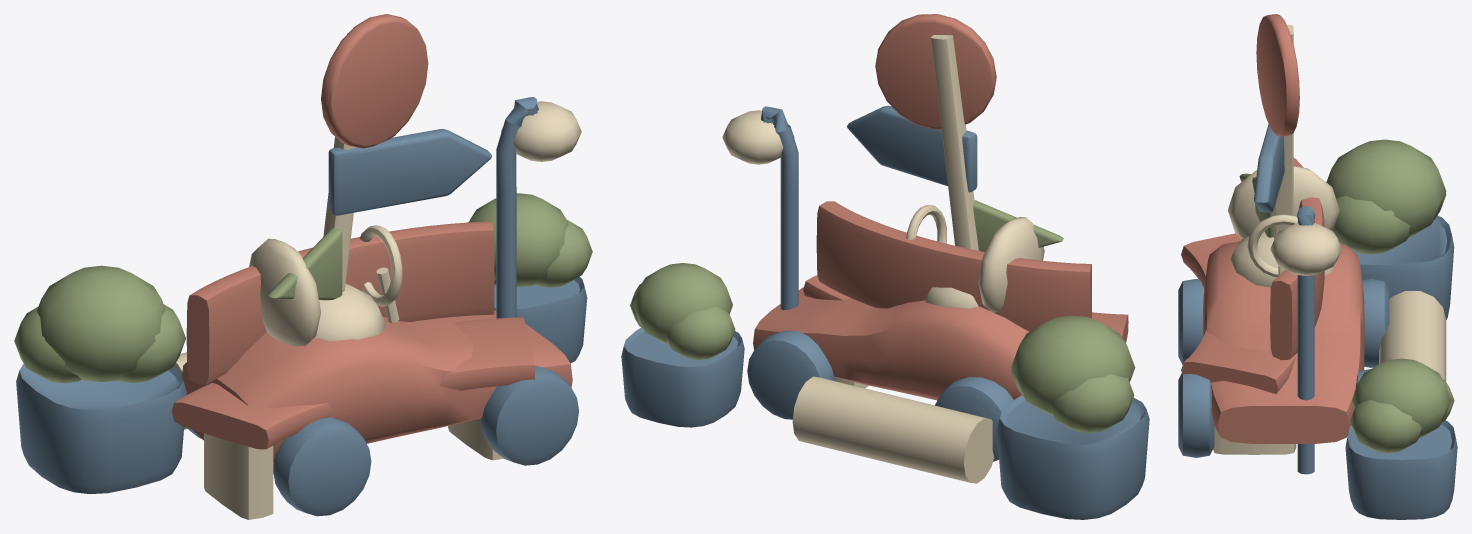
The model's file is playroom-town-foreground.glb.
3 renders of one model, left to right at view 1: azimuth 30°, elevation 25°; view 2: azimuth 150°, elevation 25°; view 3: azimuth 270°, elevation 25°, orthographic. The views are drawn at different scales.
Visible parts, largest first — view 1: TownBenchCluster body, TownVehicleSilhouette body, TownSignCluster body; view 2: TownBenchCluster body, TownVehicleSilhouette body, TownSignCluster body; view 3: TownBenchCluster body, TownVehicleSilhouette body, TownSignCluster body.
Part boxes in pixels (bbox=[...]): TownBenchCluster body: bbox=[14, 193, 592, 519]; TownVehicleSilhouette body: bbox=[181, 225, 578, 516]; TownSignCluster body: bbox=[268, 14, 581, 473]; TownBenchCluster body: bbox=[621, 201, 1149, 519]; TownVehicleSilhouette body: bbox=[747, 204, 1044, 461]; TownSignCluster body: bbox=[722, 14, 1063, 310]; TownBenchCluster body: bbox=[1181, 139, 1457, 519]; TownVehicleSilhouette body: bbox=[1178, 166, 1389, 457]; TownSignCluster body: bbox=[1239, 14, 1341, 474].
Size of the model in its own units: 5.11 by 3.81 by 2.49.
